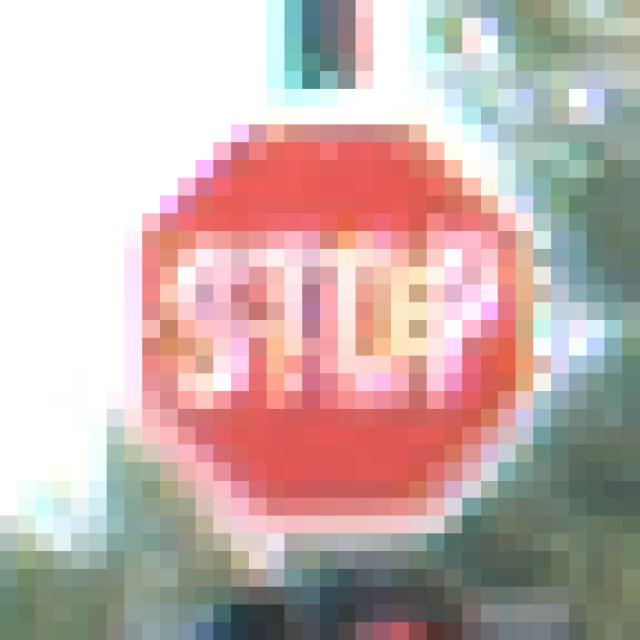STOP: (90, 90, 552, 552)
